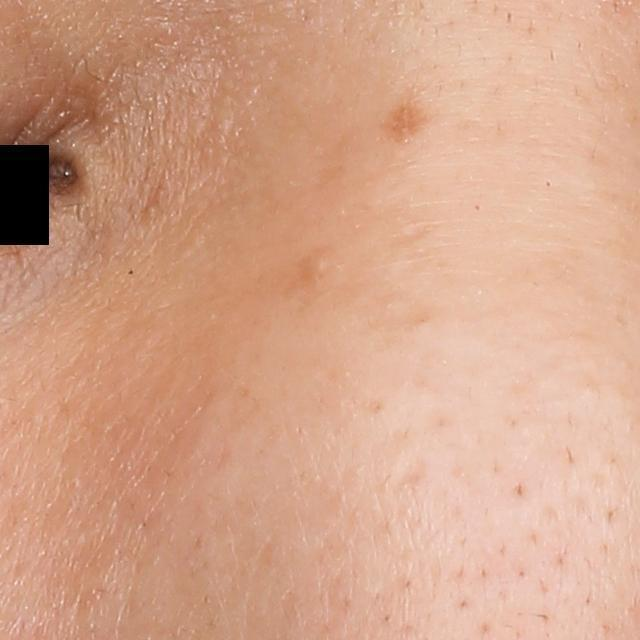atrophic_scar: (394, 452, 425, 497)
melasma: (373, 93, 434, 144)
